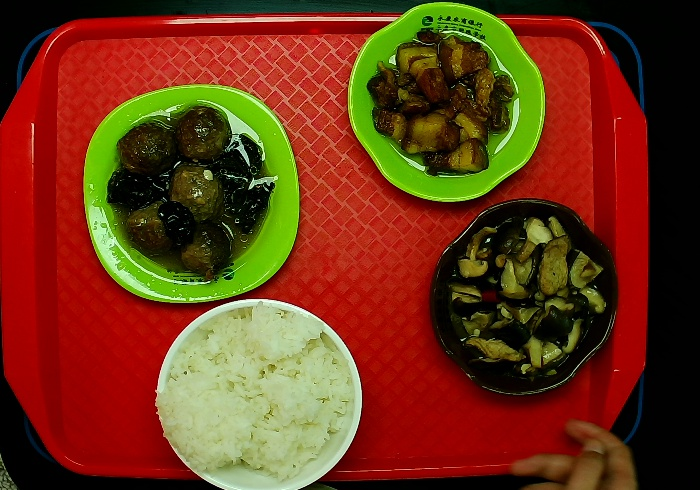YKMZ-Fan_Wan: (150, 293, 372, 490)
YKMZ-Ka_Fei_Ao_Bian_Wan: (423, 195, 619, 407)
YKMZ-Lv_Se_Ao_Bian_Wan: (343, 1, 550, 208)
YKMZ-Lv_Se_Fang_Die: (75, 78, 306, 307)
